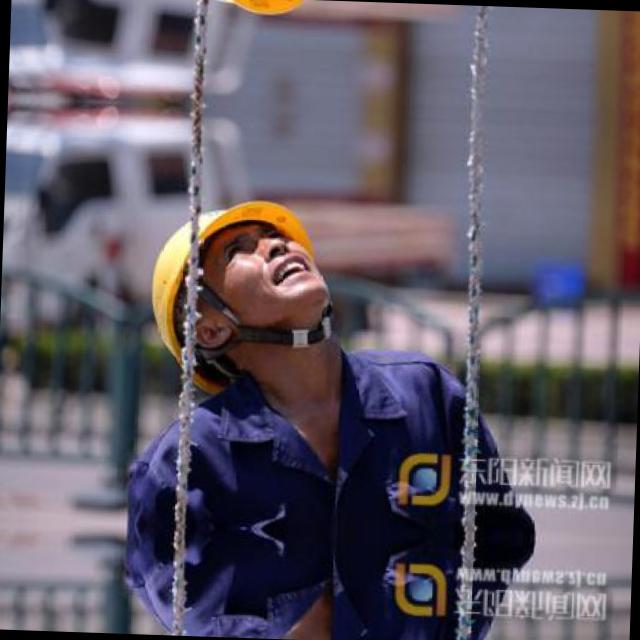helmet: (164, 179, 341, 367)
